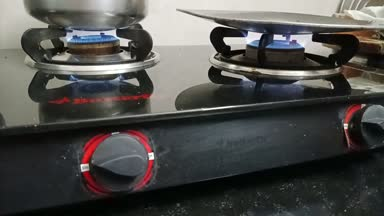flame_gas_on: (46, 28, 154, 192), (230, 25, 329, 78)
